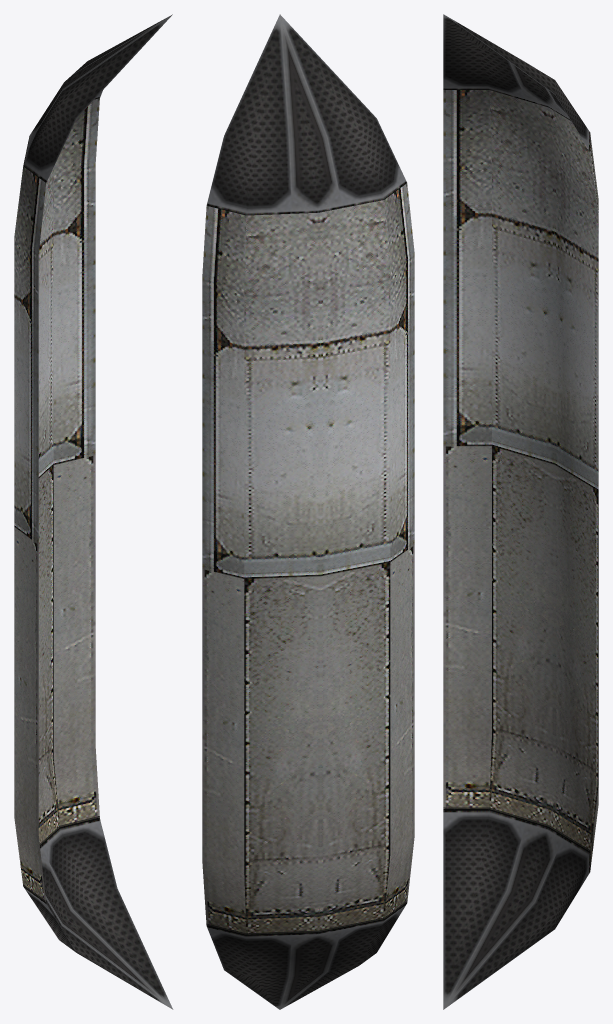
File: Wall_B_Mid4mts_039.fbx
3 views of the same model, side by side, from view 1: azimuth 30°, elevation 25°; view 2: azimuth 150°, elevation 25°; view 3: azimuth 270°, elevation 25° (orthographic).
Parts seen in each view (by area): view 1: Wall_B_Mid4mts_039; view 2: Wall_B_Mid4mts_039; view 3: Wall_B_Mid4mts_039.
Part boxes in pixels (<box>): Wall_B_Mid4mts_039: <box>14,14,173,1009</box>; Wall_B_Mid4mts_039: <box>202,14,414,1009</box>; Wall_B_Mid4mts_039: <box>443,14,598,1009</box>.
Bounding box in the file's own units: 56.65 × 400 × 56.65.
